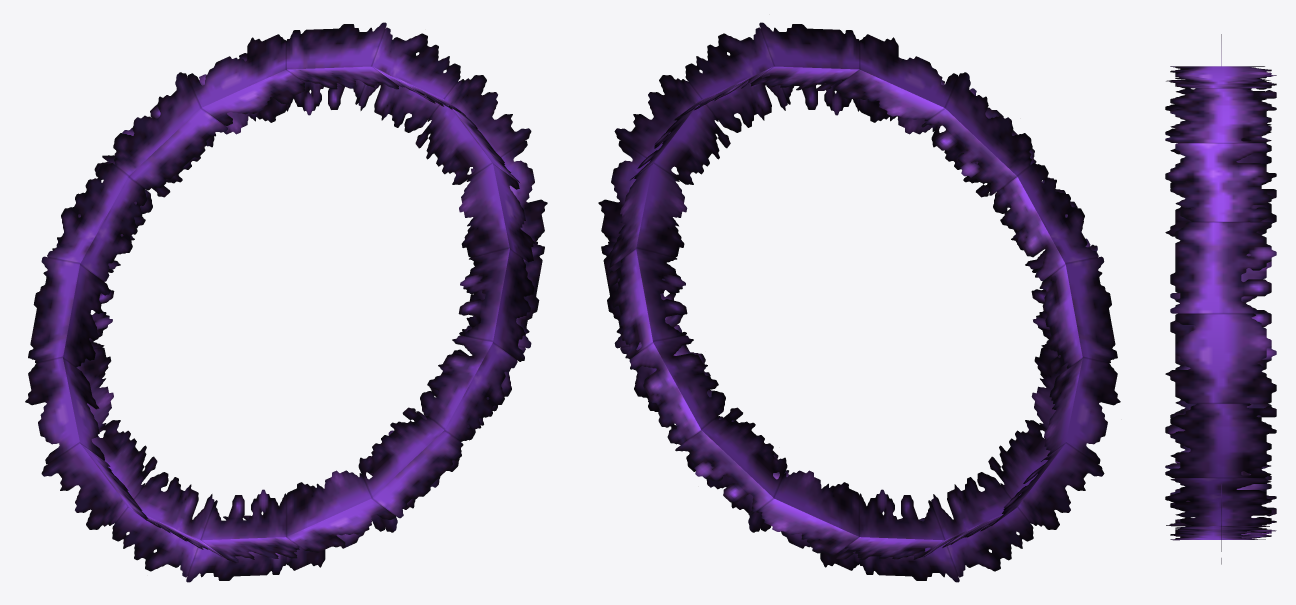
3 views of the same model, side by side, from view 1: azimuth 30°, elevation 25°; view 2: azimuth 150°, elevation 25°; view 3: azimuth 270°, elevation 25° (orthographic). The views are drawn at different scales.
Parts seen in each view (by area): view 1: T1L9M001_24; view 2: T1L9M001_24; view 3: T1L9M001_24.
Boxes of the visible parts, left/top/right/bottom form: T1L9M001_24: left=25, top=22, right=547, bottom=582; T1L9M001_24: left=598, top=22, right=1120, bottom=582; T1L9M001_24: left=1165, top=34, right=1276, bottom=564.
Bounding box in the file's own units: 2.83 × 2.83 × 0.5957.
